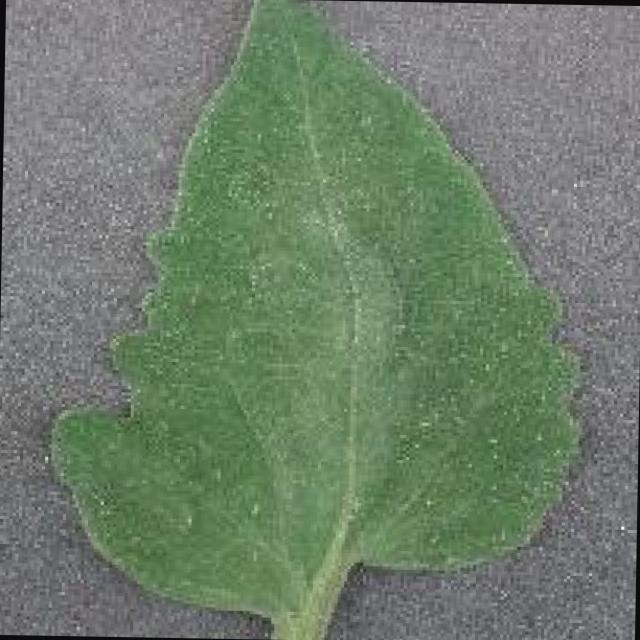healthy: (45, 0, 591, 640)
